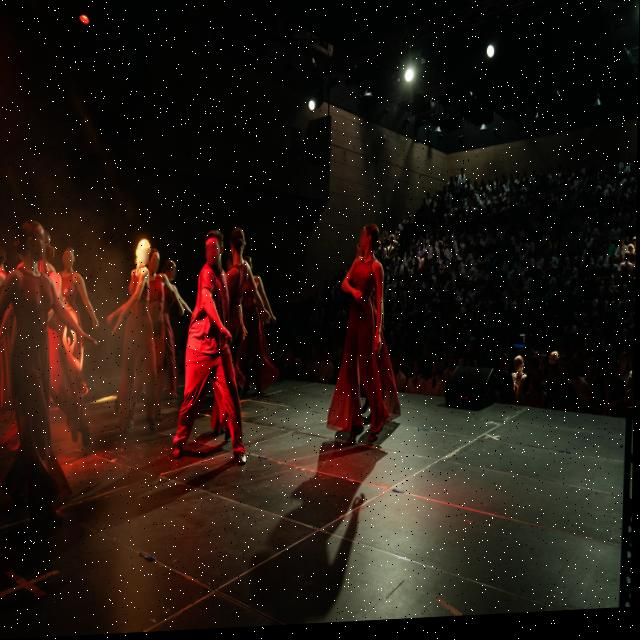Person: (3, 212, 71, 571), (323, 222, 397, 466), (188, 229, 249, 469), (112, 226, 172, 450), (220, 226, 260, 402), (141, 245, 167, 415), (56, 236, 92, 333), (164, 239, 184, 387)
